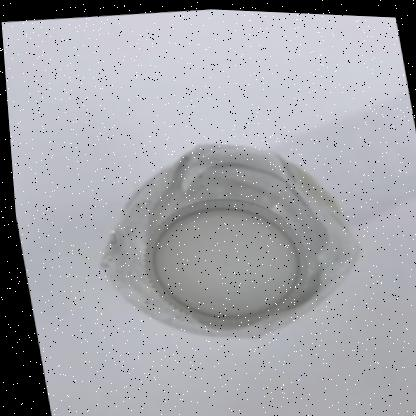Plastic: (98, 142, 354, 335)
